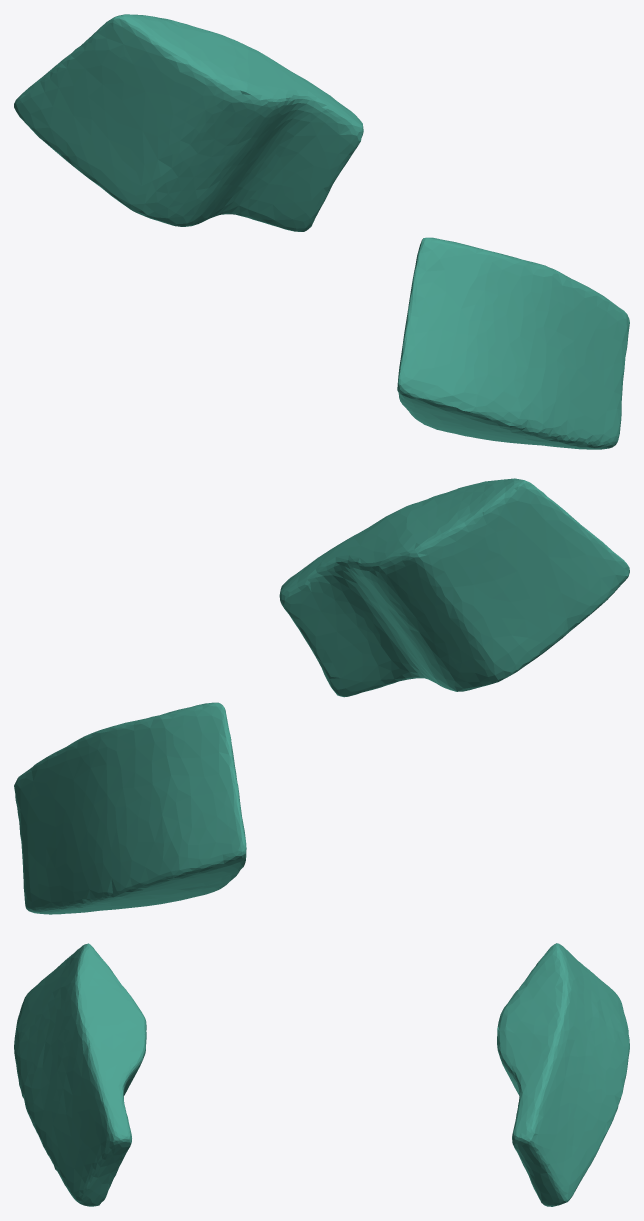
3 renders of one model, top to bottom at view 1: azimuth 30°, elevation 25°; view 2: azimuth 150°, elevation 25°; view 3: azimuth 270°, elevation 25°, orthographic. The views are drawn at different scales.
Parts seen in each view (by area): view 1: 369.obj; view 2: 369.obj; view 3: 369.obj.
Part boxes in pixels (bbox=[...]): 369.obj: bbox=[14, 14, 629, 449]; 369.obj: bbox=[14, 478, 629, 914]; 369.obj: bbox=[14, 943, 629, 1206].
Size of the model in its own units: 2600 by 2200 by 6260.
